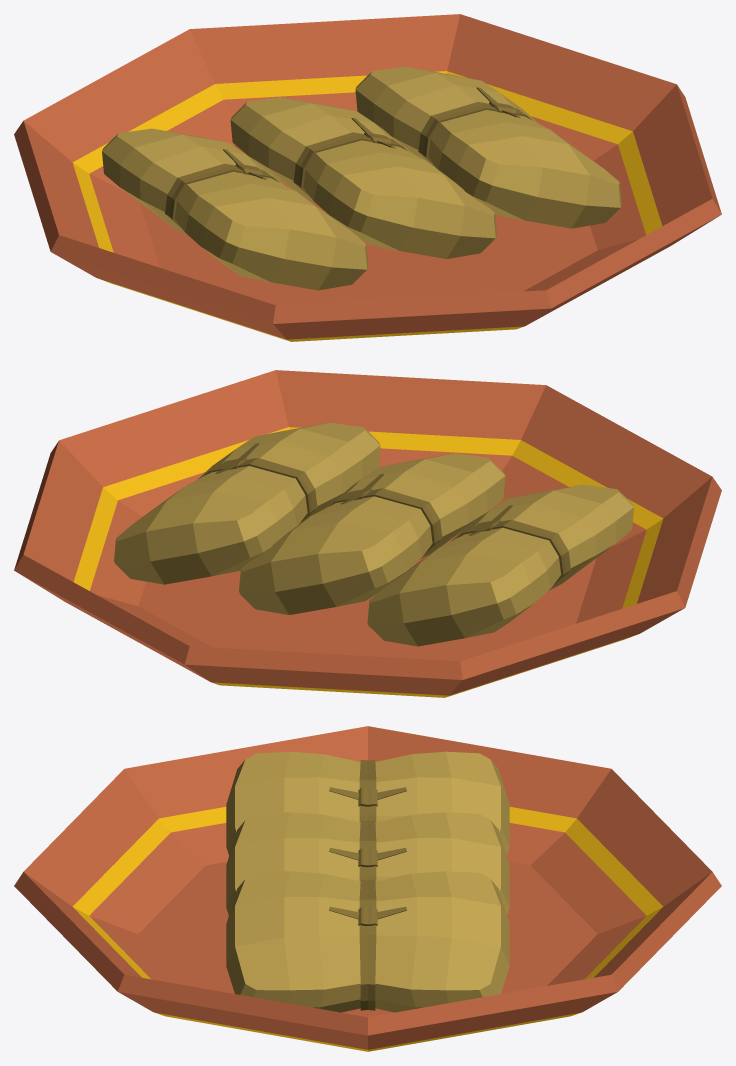
The model's file is Plato_Humitas.fbx.
3 renders of one model, top to bottom at view 1: azimuth 30°, elevation 25°; view 2: azimuth 150°, elevation 25°; view 3: azimuth 270°, elevation 25°, orthographic. The views are drawn at different scales.
Visible parts, largest first — view 1: Plato_Humita; view 2: Plato_Humita; view 3: Plato_Humita.
Boxes of the visible parts, x1=… form: Plato_Humita: x1=14, y1=14, x2=721, y2=341; Plato_Humita: x1=14, y1=370, x2=721, y2=697; Plato_Humita: x1=14, y1=726, x2=721, y2=1051.
Bounding box in the file's own units: 38.53 × 6.42 × 38.53.
